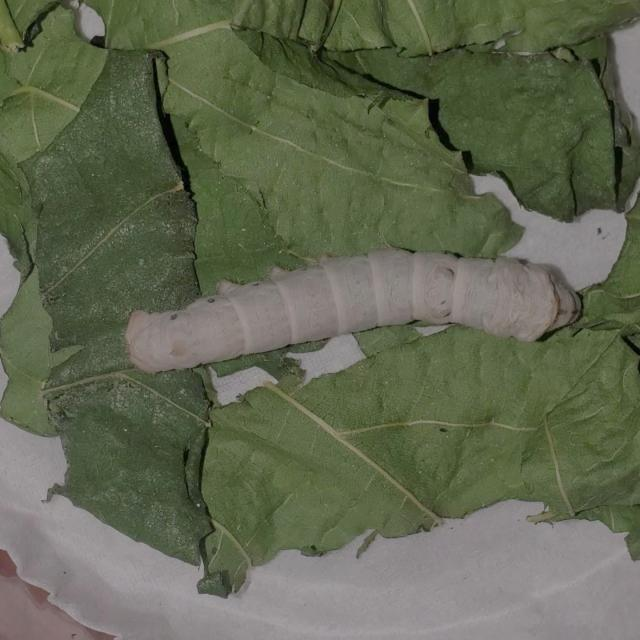Healthy: (79, 230, 606, 385)
